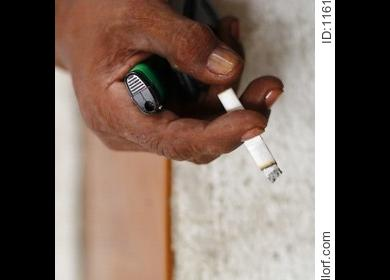Cigarette: (217, 87, 283, 181)
